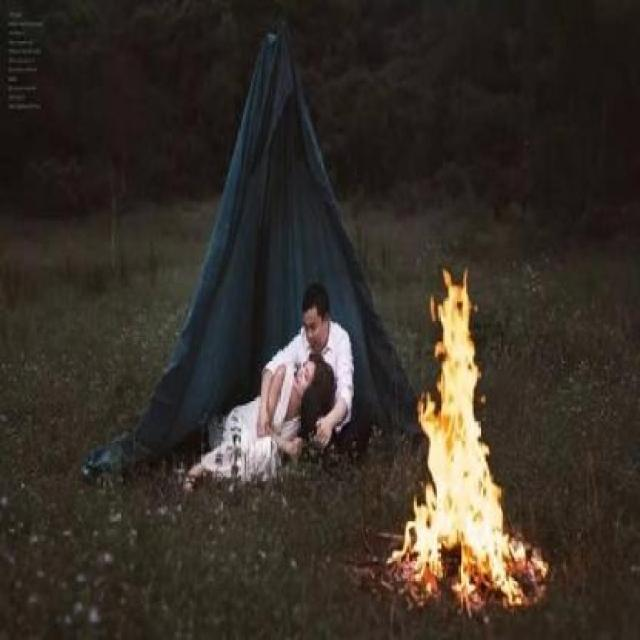Fire: (398, 268, 548, 616)
